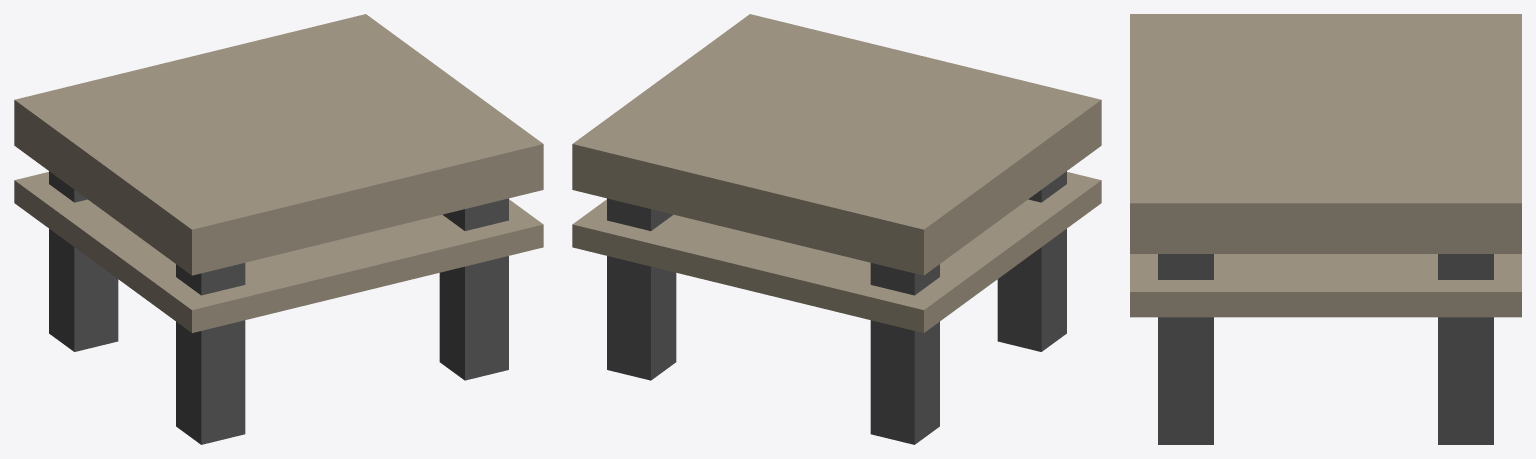
The model's file is desk.gltf.
3 renders of one model, left to right at view 1: azimuth 30°, elevation 25°; view 2: azimuth 150°, elevation 25°; view 3: azimuth 270°, elevation 25°, orthographic. The views are drawn at different scales.
Visible parts, largest first — view 1: mesh (×5); view 2: mesh (×5); view 3: mesh (×4).
Part boxes in pixels (box(x1,y1,x2,y2)): mesh (×5): box(14, 14, 543, 444); mesh (×5): box(572, 14, 1101, 444); mesh (×4): box(1130, 14, 1521, 444).
Bounding box in the file's own units: 0.5 × 0.3125 × 0.4375.
Materials: 1 (1 with a texture image).
